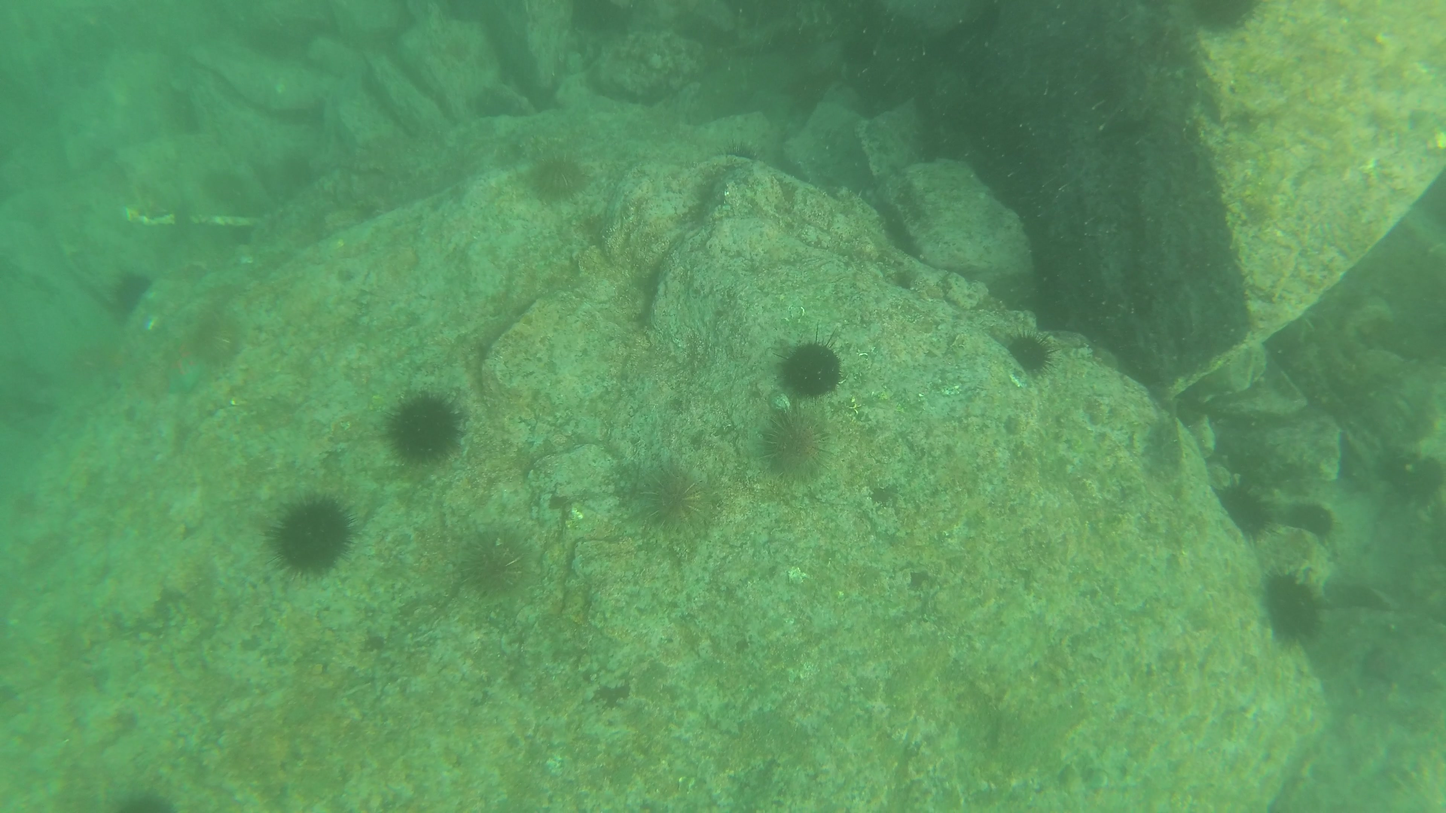holothurian: (159, 355, 207, 399)
starfish: (270, 484, 353, 569), (640, 468, 720, 544), (764, 402, 836, 484), (389, 394, 463, 461), (466, 525, 534, 595), (1384, 441, 1446, 509), (784, 335, 845, 398), (1272, 572, 1323, 646), (104, 268, 163, 323), (1220, 475, 1265, 540), (197, 312, 248, 367), (1007, 327, 1057, 377), (533, 154, 585, 198), (1293, 495, 1341, 534), (717, 140, 770, 171)
